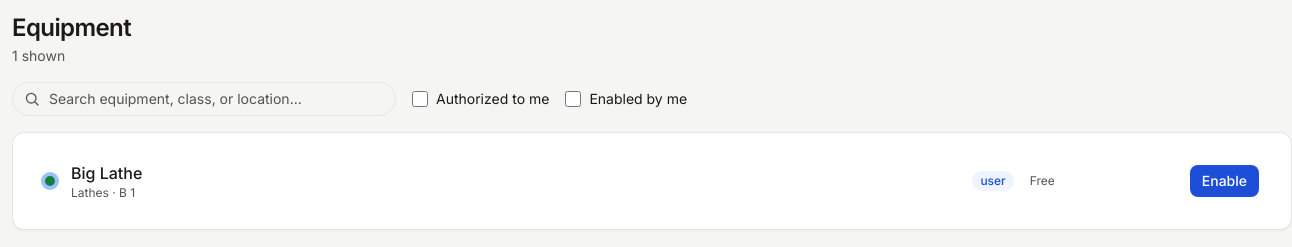
Test: EquipmentList › renders rows and filters via search
Check: the link "Big Lathe" is shown, box [71,163,142,183]
Type "zzz" into the field labelled "Search equipment". click: [204, 99]
box: [12,82,396,116]
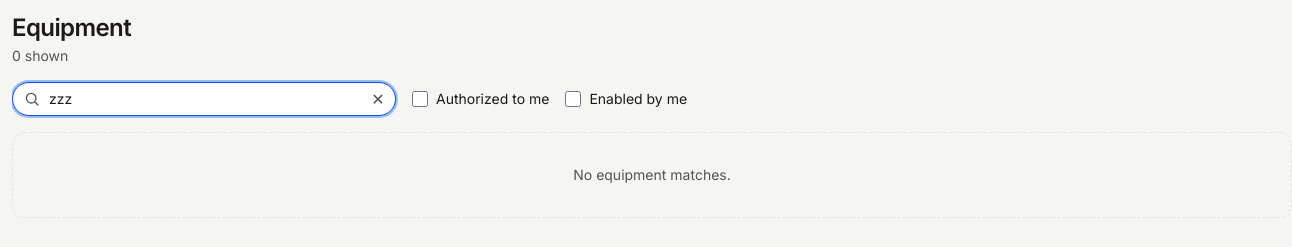
Check: the text "No equipment matches." is shown, box [12,132,1291,218]
